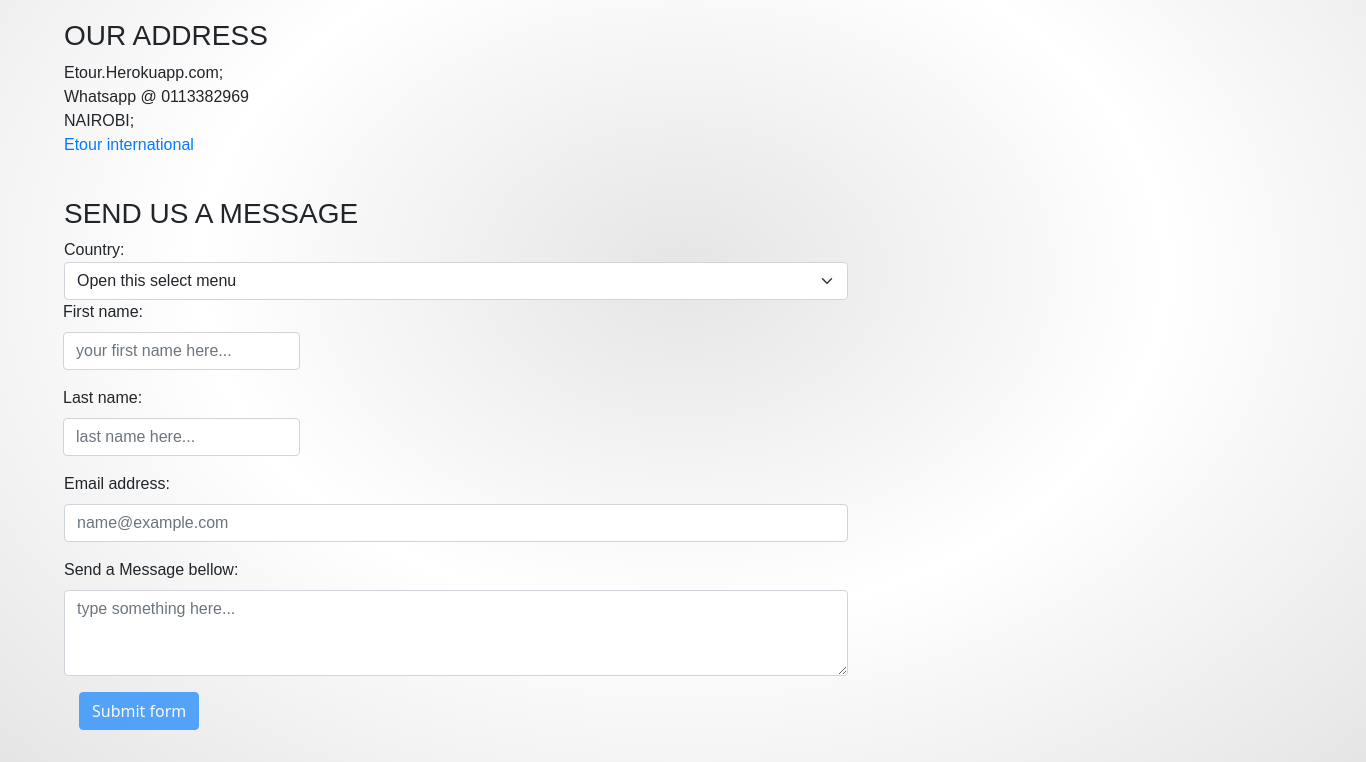
Test: textarea input element dose not accept less than 3 character message
(page scrolled)
In the text box with placeholder "type something here...": coordinates (456, 633) top-left (64, 590), bottom-right (848, 676), type "ba"
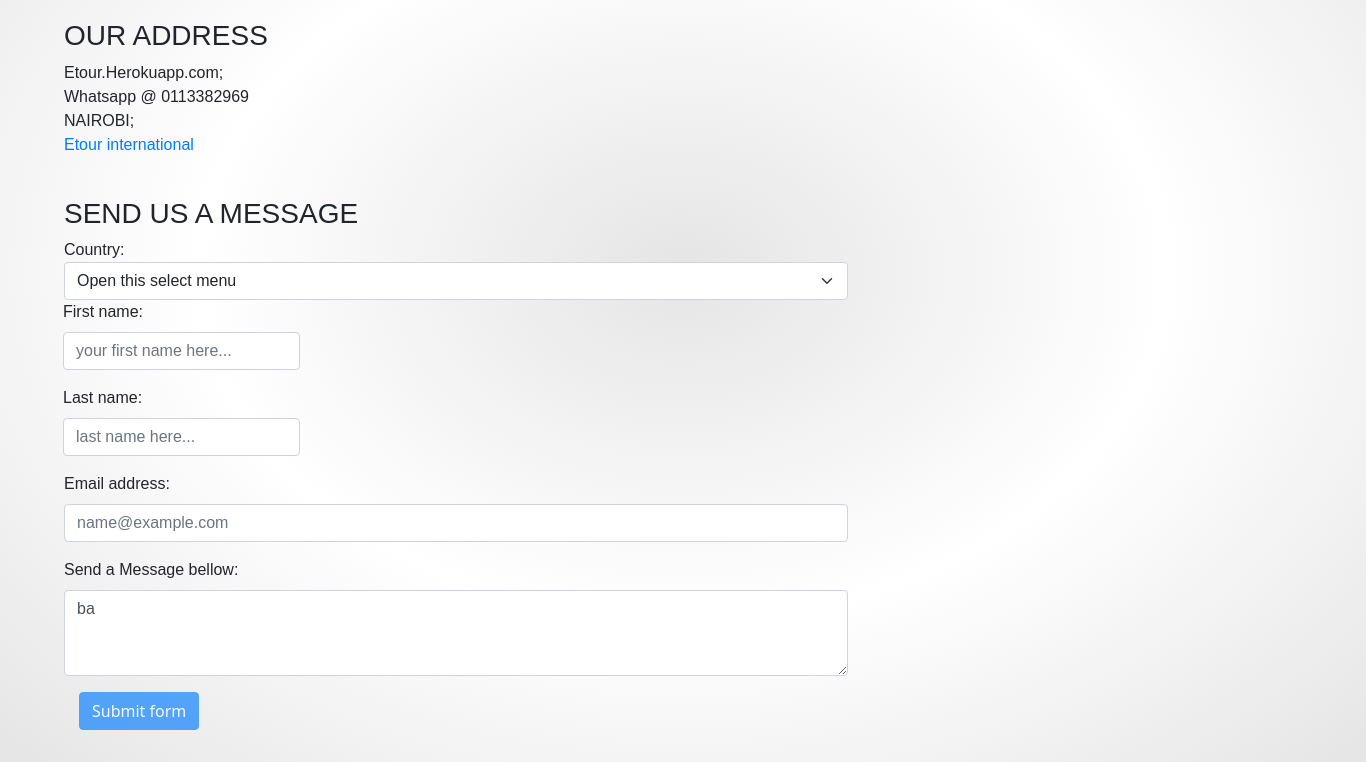
Submit the form from the button, box top-left (79, 692), bottom-right (199, 730)
(page scrolled)
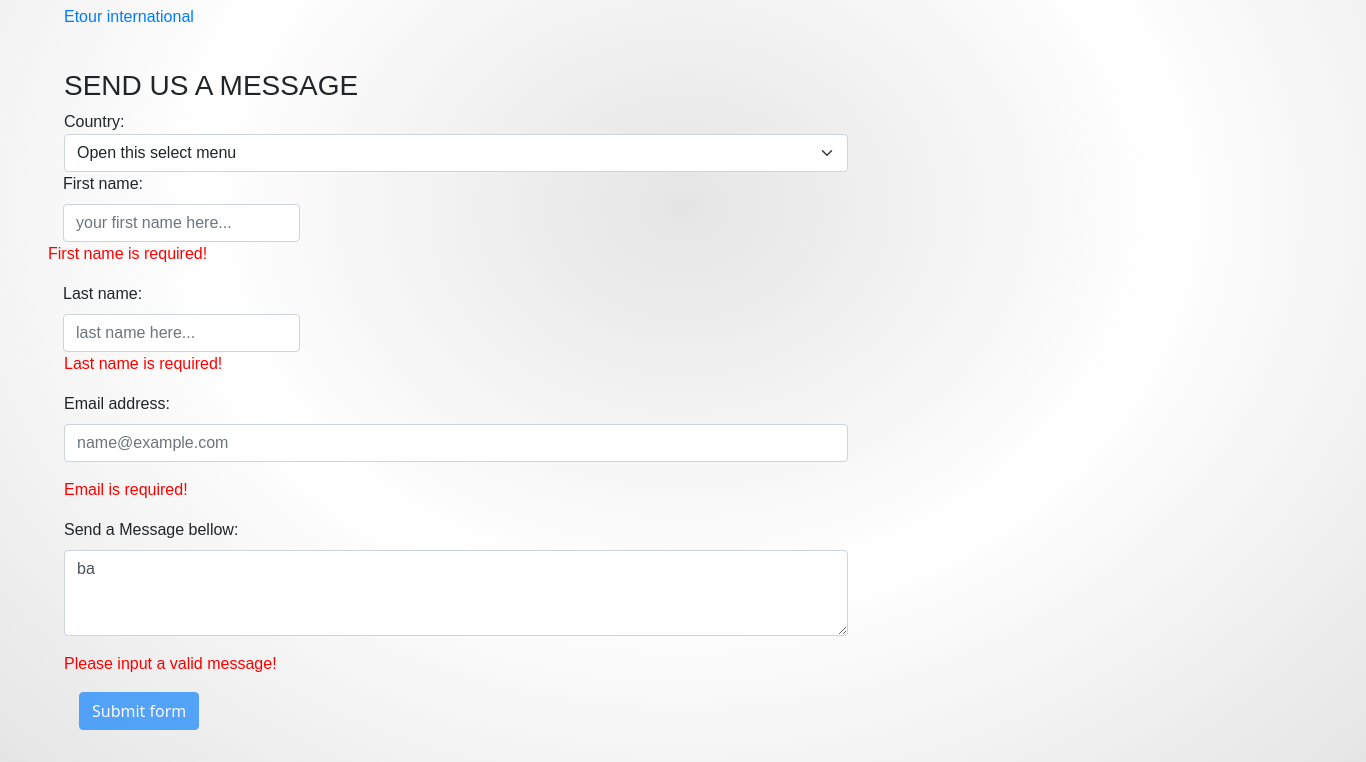
Expected: the text with test id "text-error" reads "Please input a valid message!", top-left (64, 655), bottom-right (277, 672)
